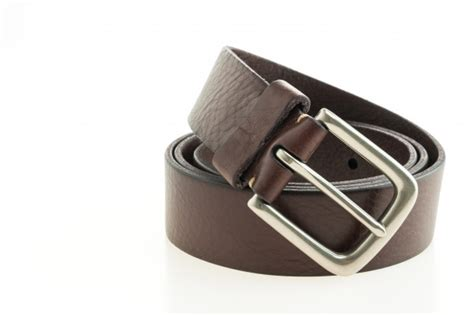cuero: (163, 45, 446, 278)
